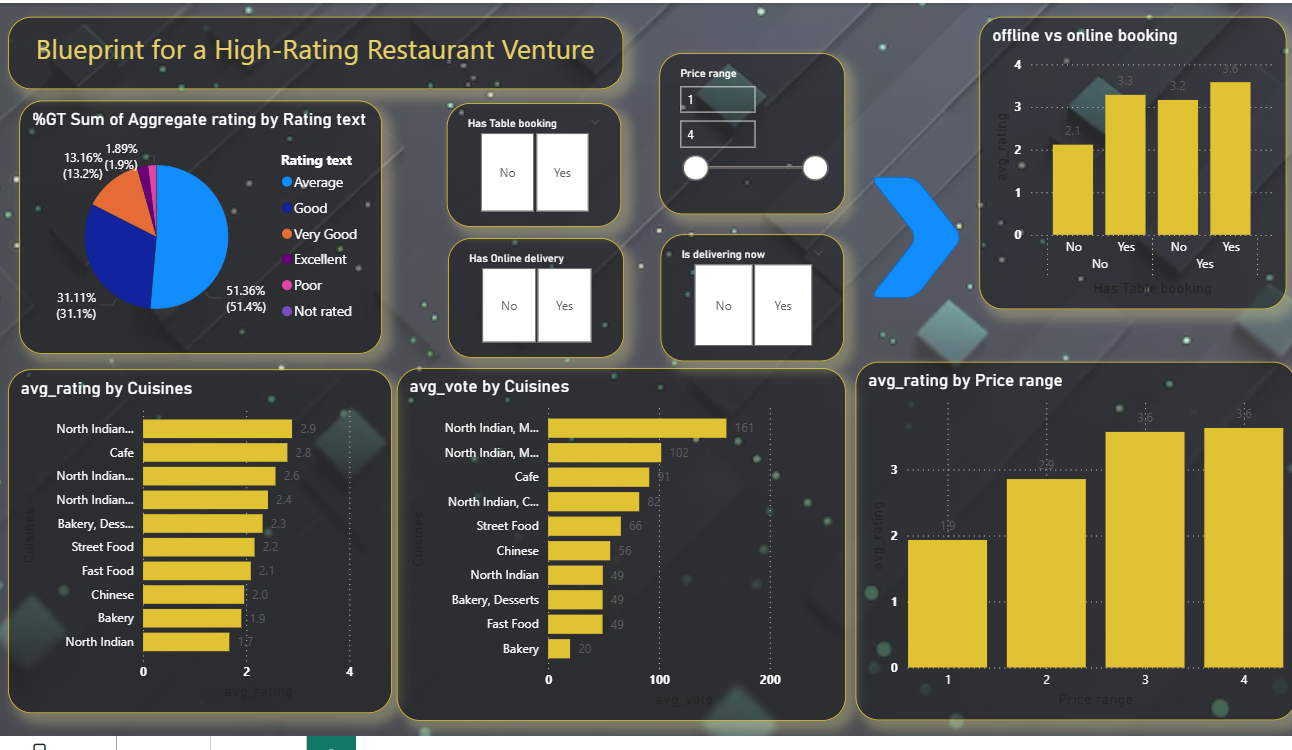

The page's visual inventory and layout, read from the dashboard file:
{"tool":"powerbi","page":{"name":"Page 1","canvas":[1280,720],"ordinal":0},"visuals":[{"type":"columnChart","title":"offline vs online booking","fields":{"Category":["Dataset.Has Online delivery","Dataset.Has Table booking"],"Y":["Dataset.avg_rating"]},"box":[968.1,13.5,301.8,287.1],"z":0},{"type":"clusteredBarChart","fields":{"Category":["Dataset.Cuisines"],"Y":["Dataset.avg_rating"]},"box":[14.7,359.5,376.7,337.4],"z":1000},{"type":"clusteredColumnChart","fields":{"Y":["Dataset.avg_rating"],"Category":["Dataset.Price range"]},"box":[846.6,352.1,433.1,352.1],"z":2000},{"type":"pieChart","fields":{"Category":["Dataset.Rating text"],"Y":["Divide(Sum(Dataset.Aggregate rating), ScopedEval(Sum(Dataset.Aggregate rating), []))"]},"box":[25.8,95.7,355.8,249.1],"z":3000},{"type":"clusteredBarChart","fields":{"Category":["Dataset.Cuisines"],"Y":["Dataset.avg_Measure"]},"box":[396.3,358.3,440.5,346],"z":4000},{"type":"textbox","box":[14.7,13.5,603.7,71.2],"z":5000},{"type":"slicer","fields":{"Values":["Dataset.Has Online delivery"]},"box":[446.2,231.2,172.5,117.5],"z":6000},{"type":"slicer","fields":{"Values":["Dataset.Has Table booking"]},"box":[445,98.8,171.2,121.2],"z":7000},{"type":"slicer","fields":{"Values":["Dataset.Is delivering now"]},"box":[655.2,227,180.4,125.2],"z":8000},{"type":"slicer","fields":{"Values":["Dataset.Price range"]},"box":[653.8,48.8,182.5,158.8],"z":9000},{"type":"shape","box":[860.1,170.6,92,119],"z":10000}]}

Visuals, with their boxes on the page's 1280x720 design canvas (x1, y1, x2, y2). These are canvas units, not pixel positions in the 1292x750 screenshot, which may show the page scaled, cropped or inside an application window:
"offline vs online booking" columnChart: (left=968, top=14, right=1270, bottom=301)
clusteredBarChart - Dataset.Cuisines x Dataset.avg_rating: (left=15, top=360, right=391, bottom=697)
clusteredColumnChart - Dataset.avg_rating x Dataset.Price range: (left=847, top=352, right=1280, bottom=704)
pieChart - Dataset.Rating text x Divide(Sum(Dataset.Aggregate rating), ScopedEval(Sum(Dataset.Aggregate rating), [])): (left=26, top=96, right=382, bottom=345)
clusteredBarChart - Dataset.Cuisines x Dataset.avg_Measure: (left=396, top=358, right=837, bottom=704)
textbox: (left=15, top=14, right=618, bottom=85)
slicer - Dataset.Has Online delivery: (left=446, top=231, right=619, bottom=349)
slicer - Dataset.Has Table booking: (left=445, top=99, right=616, bottom=220)
slicer - Dataset.Is delivering now: (left=655, top=227, right=836, bottom=352)
slicer - Dataset.Price range: (left=654, top=49, right=836, bottom=208)
shape: (left=860, top=171, right=952, bottom=290)
